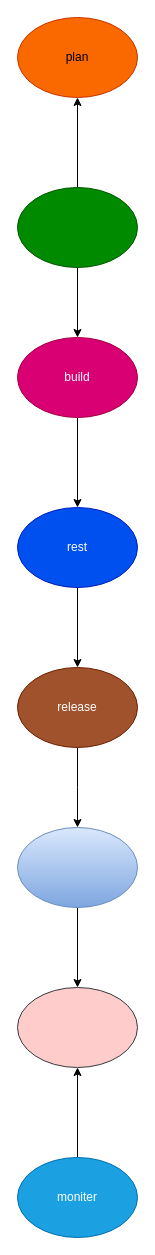
Some shapes in this 155 by 1255 pixel diagram are drawn without their labels. Here are the shapes that lost their labels. From the top down, the centre of each, then its label:
the point at 77,227: develop
the point at 77,867: deploy
the point at 77,1027: operate
